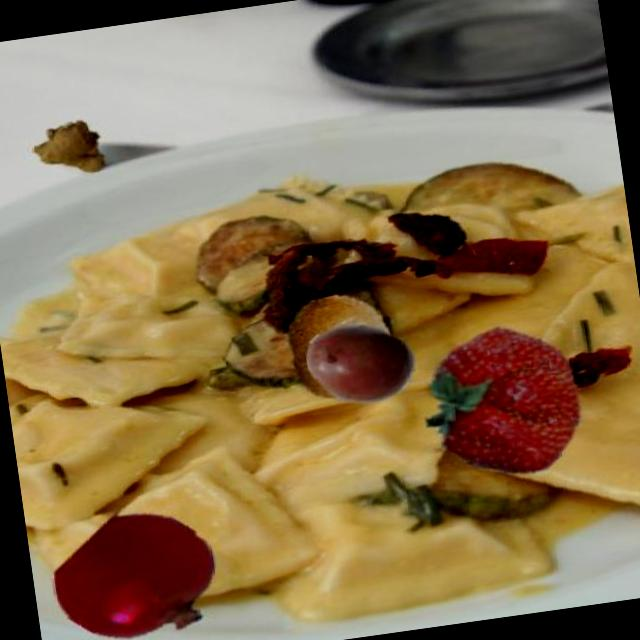Apple: (47, 505, 226, 640)
Strawberry: (391, 312, 616, 494)
